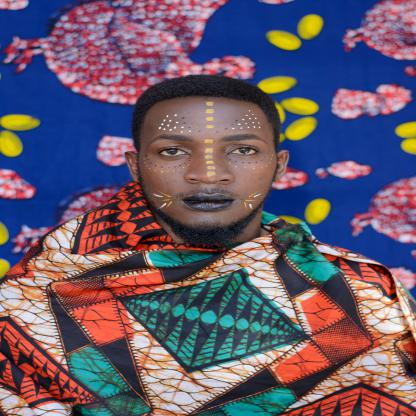Eye: (158, 144, 194, 161), (226, 143, 262, 159)
Mouth: (180, 192, 238, 212)
Nose: (185, 148, 235, 186)
